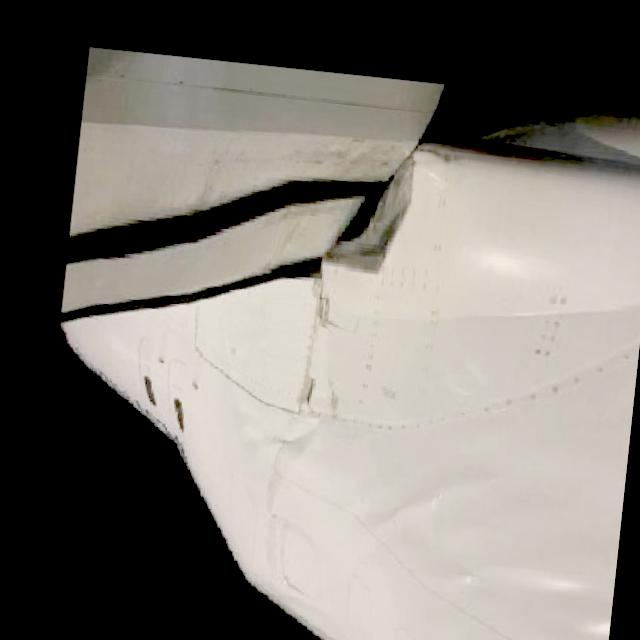dent: (222, 378, 332, 465), (361, 486, 496, 545), (471, 240, 552, 305), (480, 558, 590, 604), (424, 348, 488, 408), (521, 610, 608, 640)
